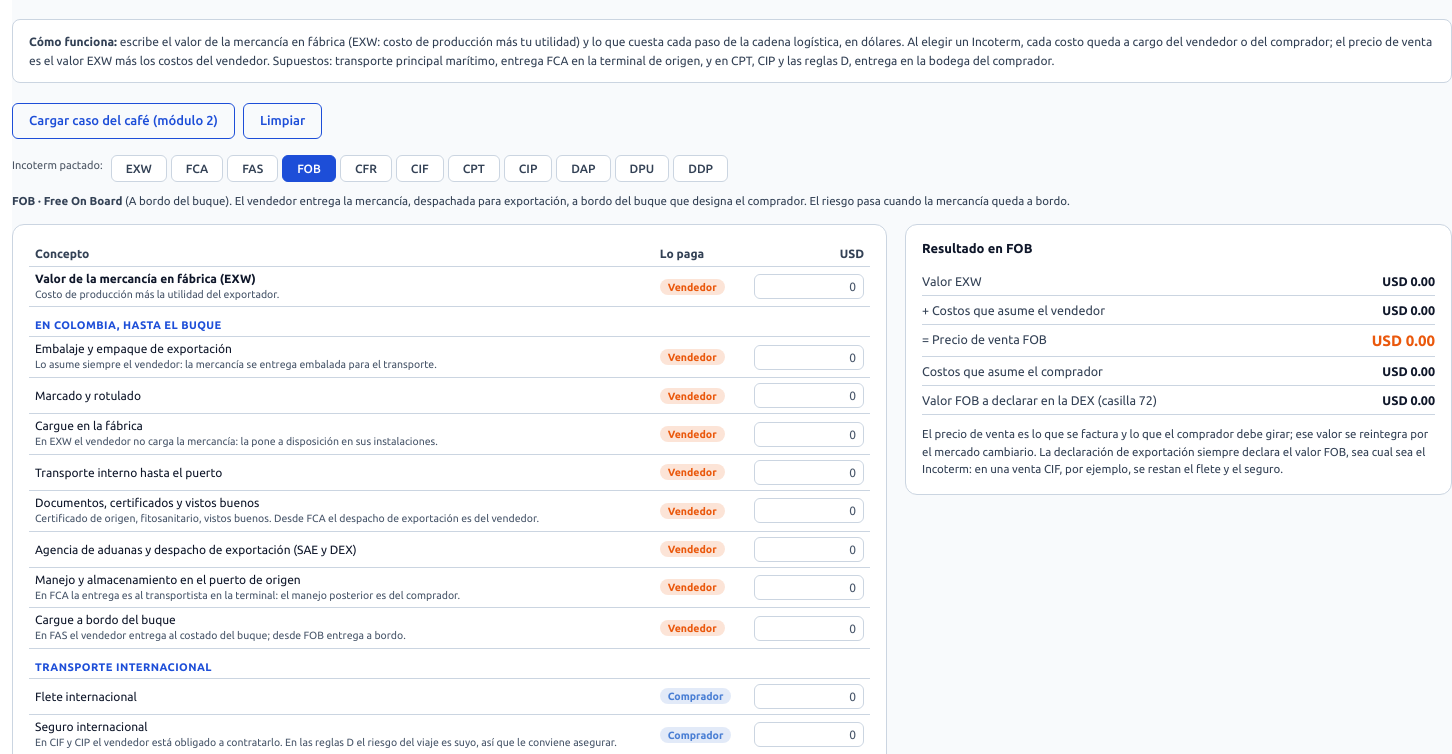
Test case: costeo de la exportación › con el caso del café cotiza FOB 162.000 y CIF 166.200, y en CIF el flete pasa al vendedor
Click the button "Cargar caso del café (módulo 2)".
click(124, 121)  # box [12,103,235,139]
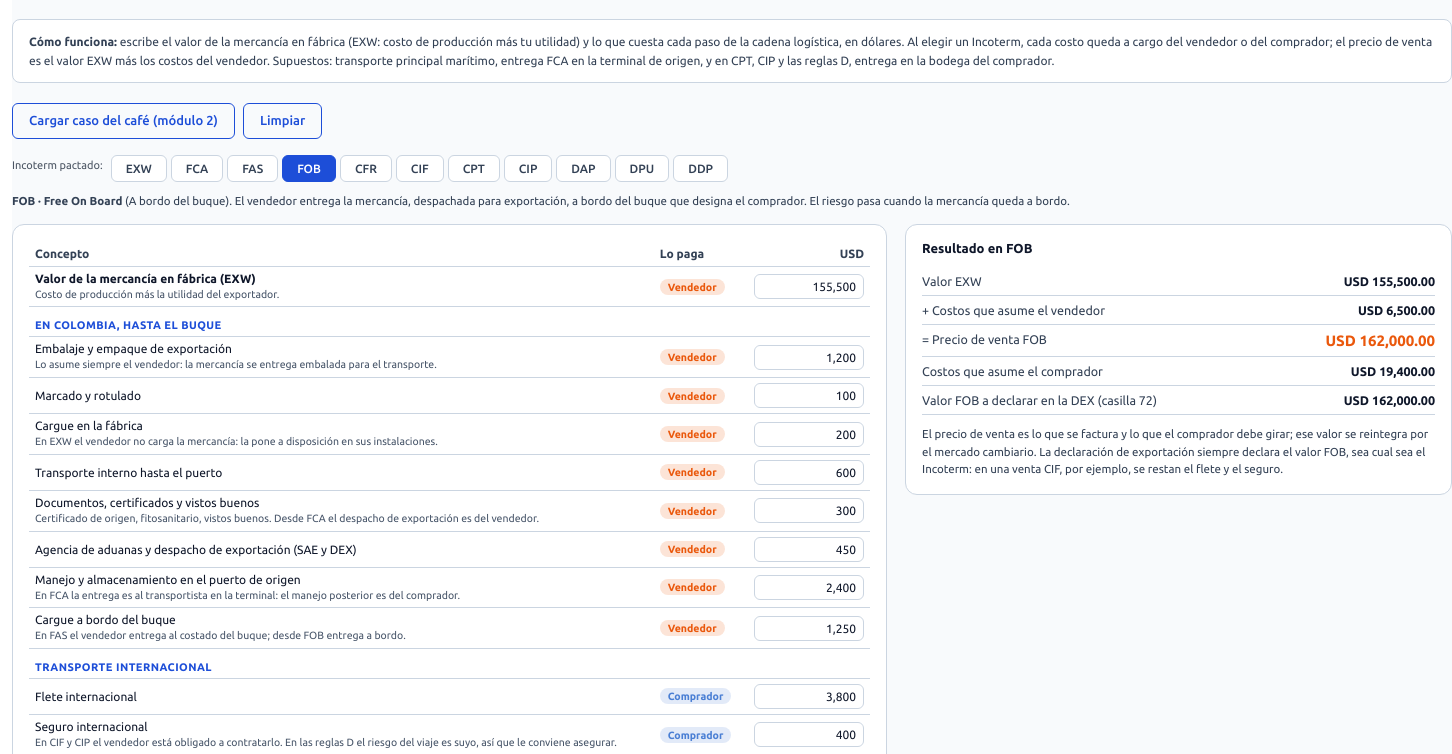
Check: the row labelled "Flete internacional" shows "Comprador", box [668,690,723,702]
Check: the text "USD 162,000.00" in the row of "= Precio de venta" is shown, box [1326,332,1435,349]
Click the button "CIF".
click(420, 168)  # box [396,155,444,182]
(page scrolled)
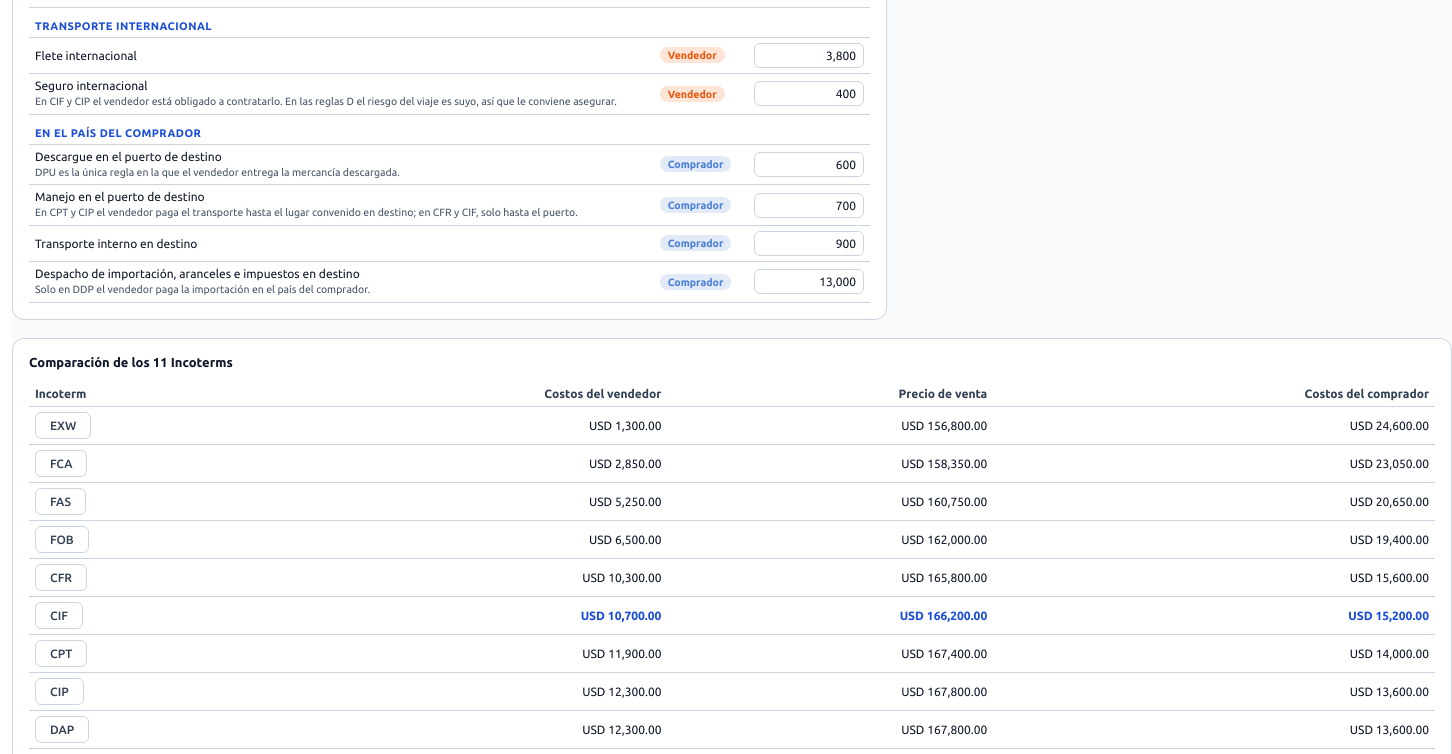
Check: the heading "Comparación de los 11 Incoterms" is shown, box [29,355,233,369]
Check: the row labelled "Flete internacional" shows "Vendedor", box [668,49,717,61]
